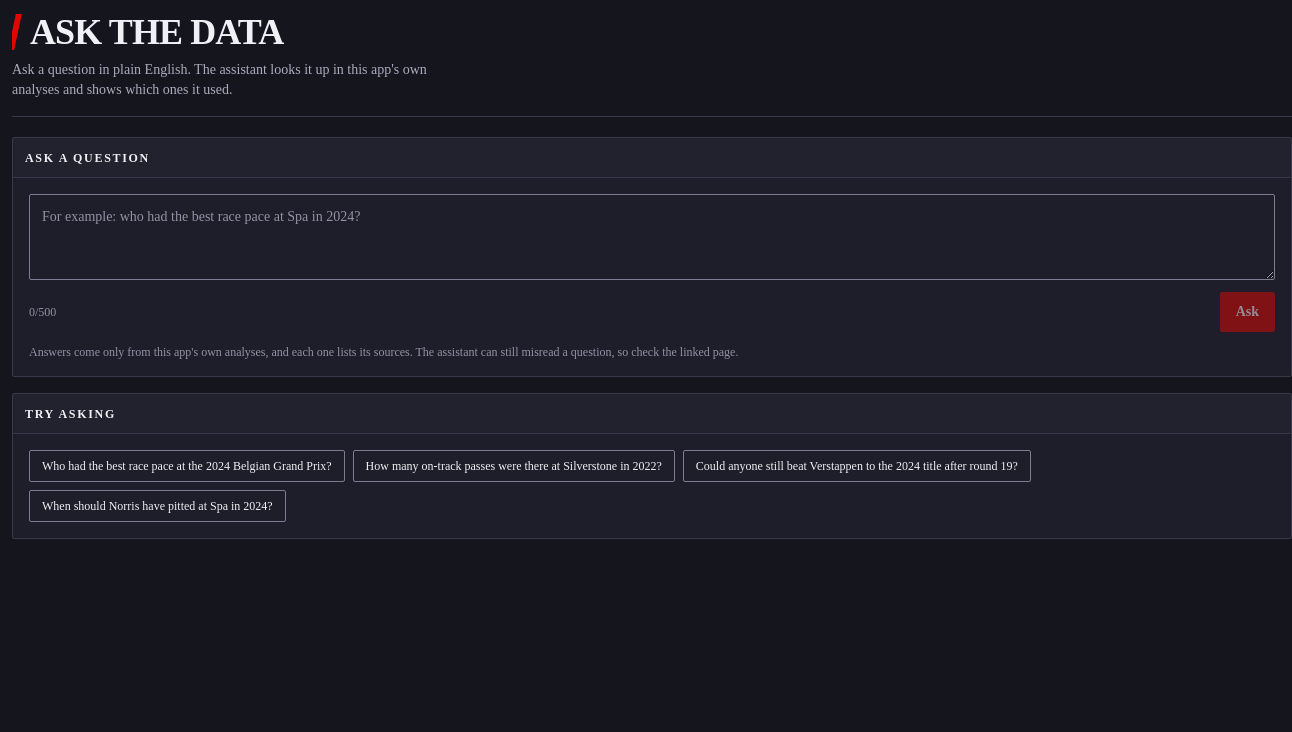
Scenario: AskPage › shows a 429 inline and keeps the question for a retry
Type "Who won?" into the text box named "Your question" at (652, 237), box [29,194,1275,280]
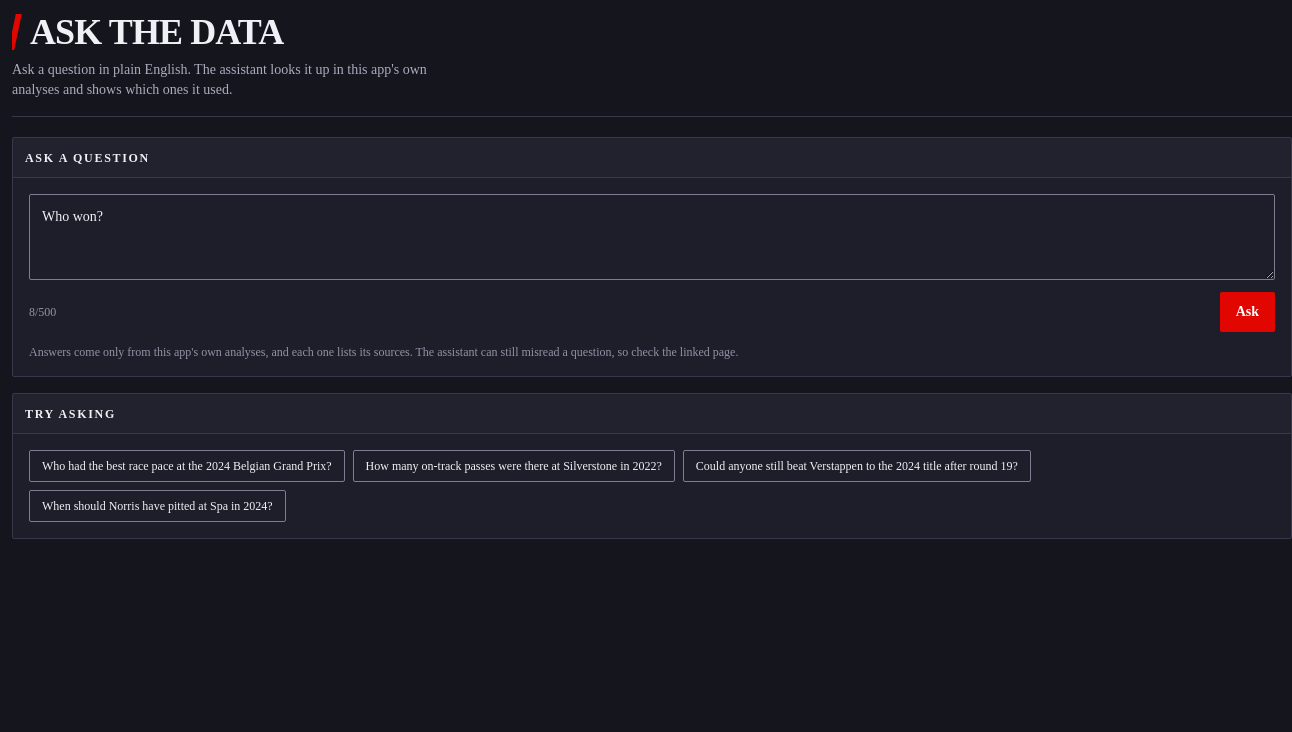
Click the button "Ask" at (1247, 312), box [1220,292,1275,332]
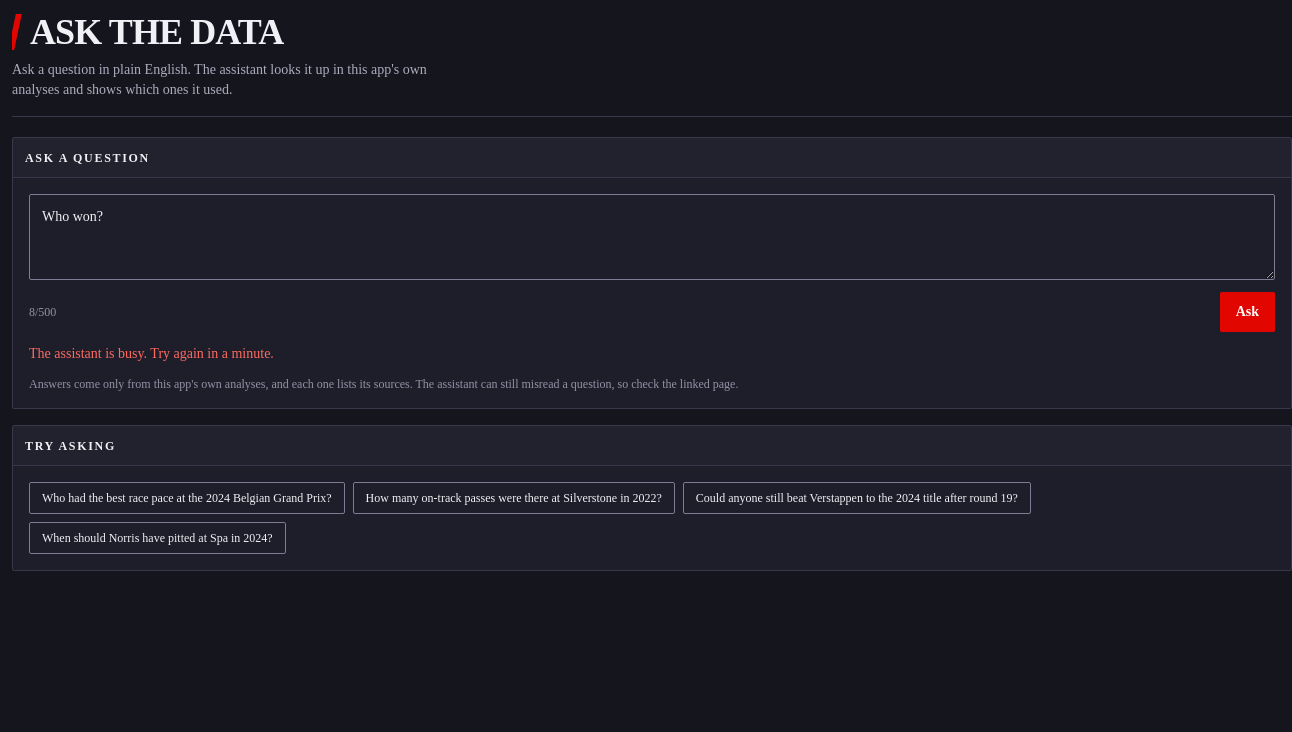
Now the button "Ask" is enabled
Now the text "The assistant is busy. Try again in a minute." is shown, box [29,346,274,361]
Click the button "Ask" at (1247, 312), box [1220,292,1275,332]
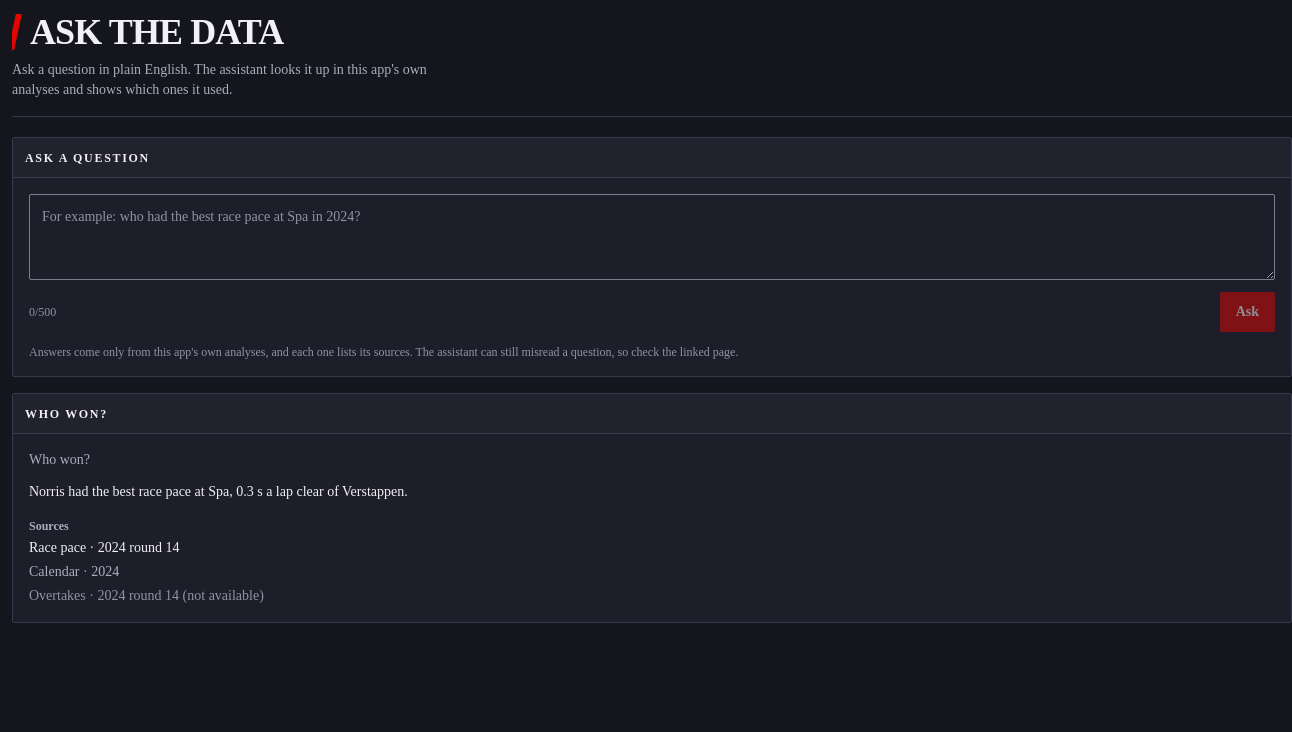
Now the text "Norris had the best race pace at Spa, 0.3 s a lap clear of Verstappen." is shown, box [29,484,408,499]
Now the text "The assistant is busy. Try again in a minute." is gone
